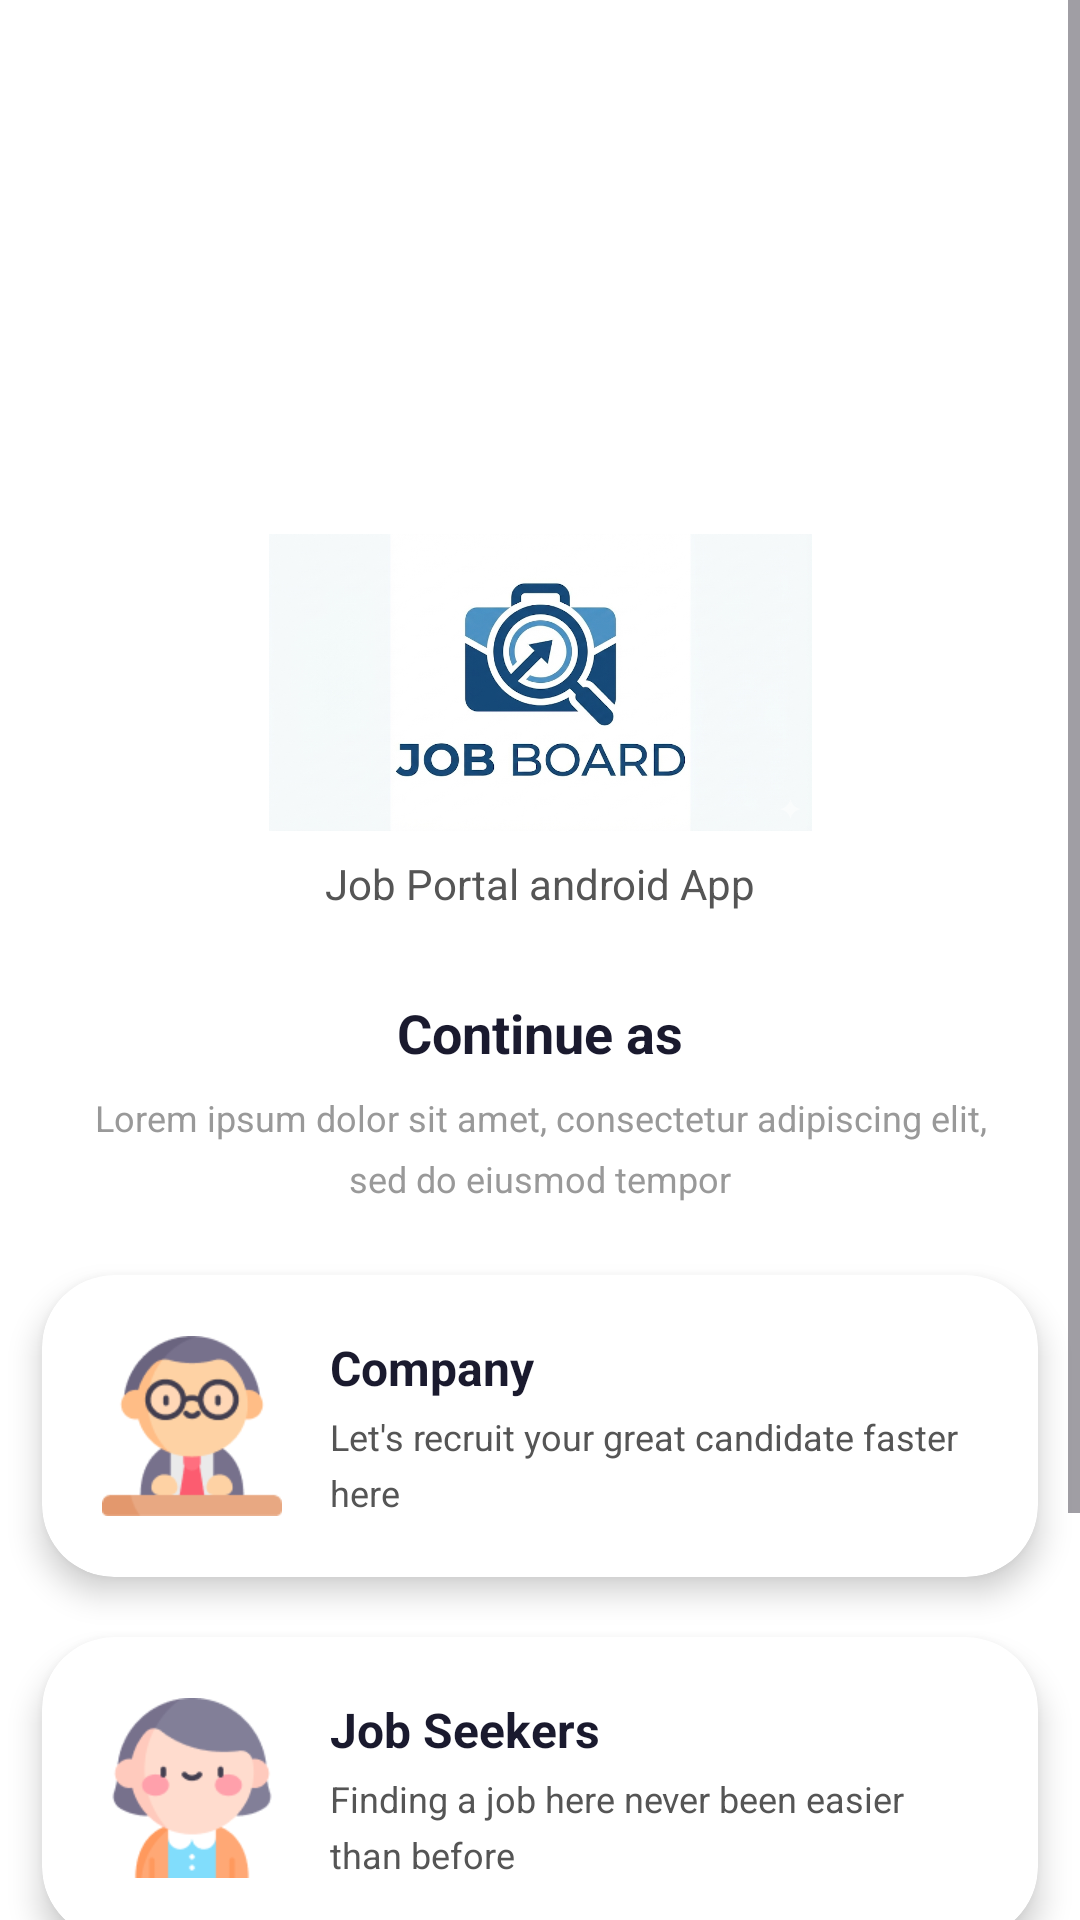

Icon bounding boxes for this 1080*1920 phone screenshot, format bbox=[x1, y1, x2, y2]:
Job Seeker Icon: bbox=[112, 1698, 271, 1878]
